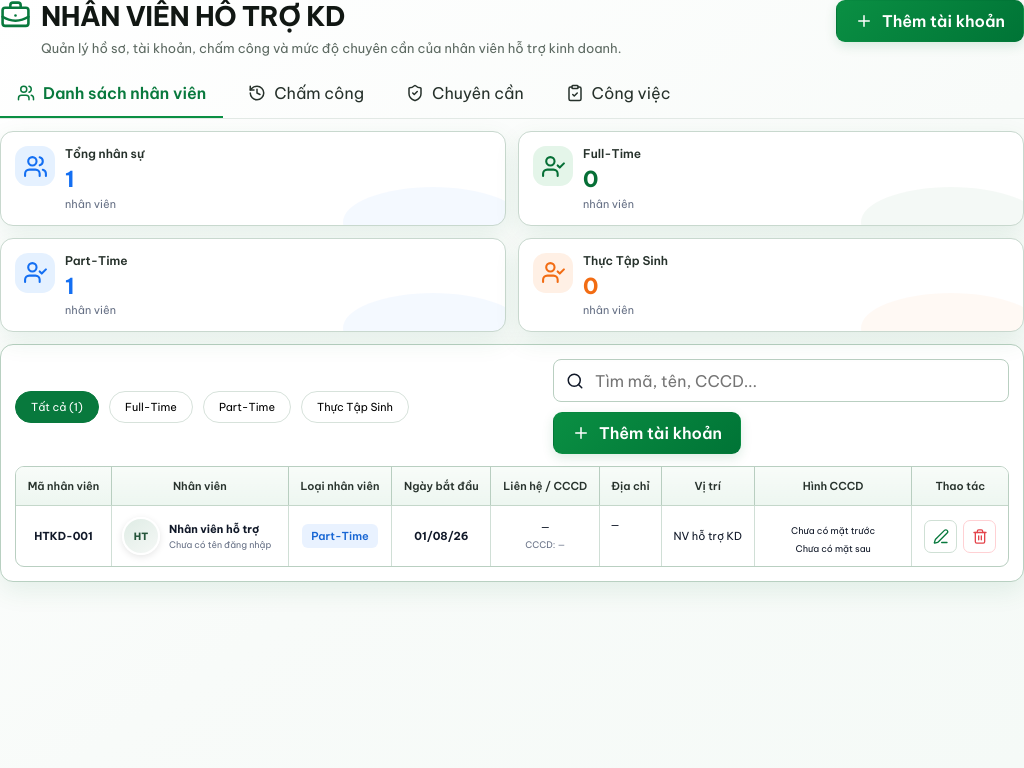
Test: working-time management entry points › keeps Business Support profile edits separate from effective-dated working-time settings
Click the button named "Sửa Nhân viên hỗ trợ".
click(941, 536)  # box [924,520,957,552]
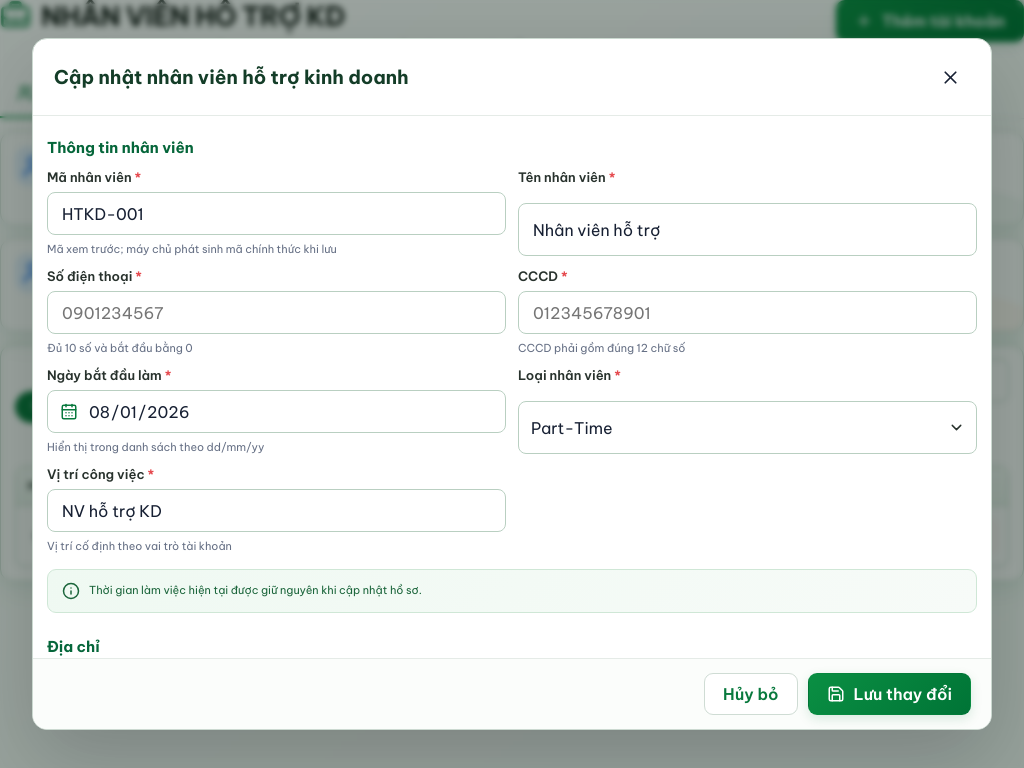
Expected: the text "Thời gian làm việc hiện tại được giữ nguyên khi cập nhật hồ sơ." is shown, [89,582,422,599]
